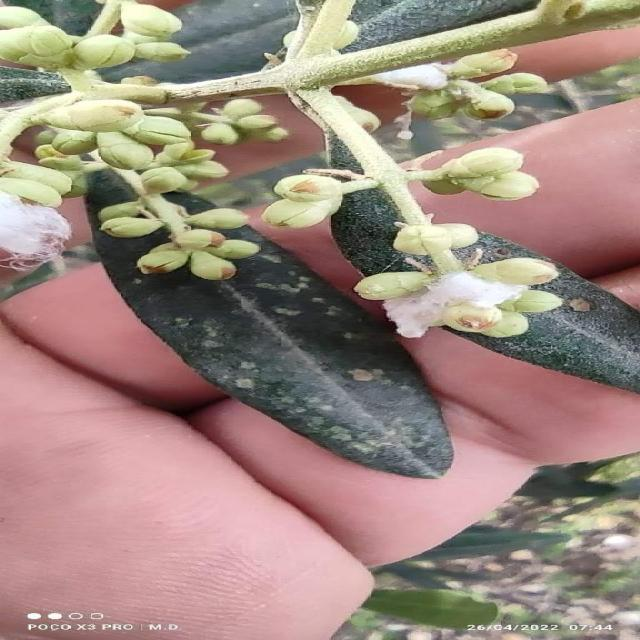Psyllid: (354, 248, 563, 338), (341, 54, 506, 103), (0, 190, 71, 278)
